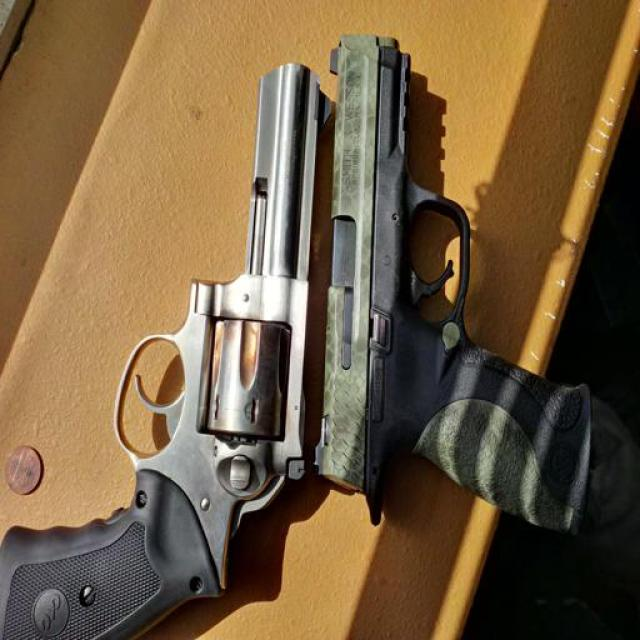pistol: (1, 66, 330, 640), (315, 29, 596, 533)
